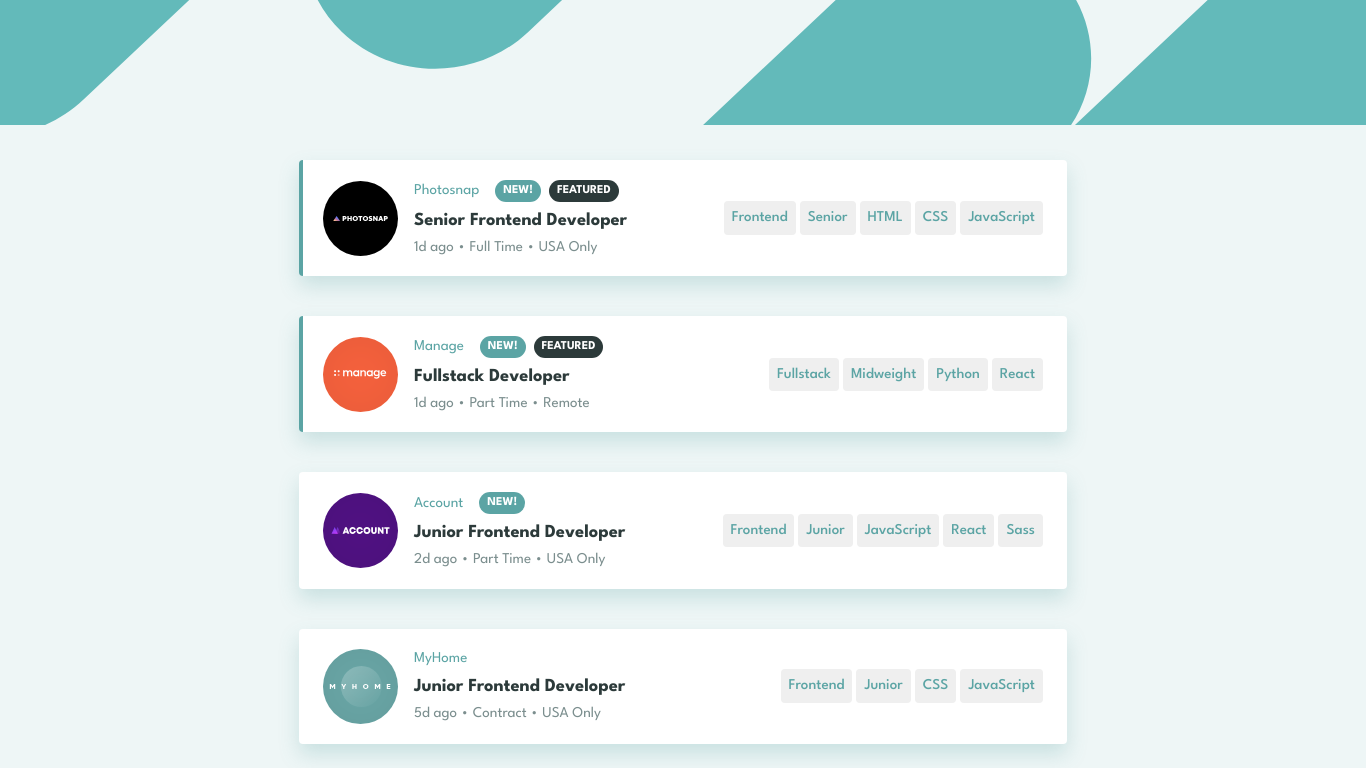
Test: <App /> › user adds filters for jobs
Click the button with test id "job-filter-tag" next to "Senior Frontend Developer".
click(760, 218)  # box [724,202,796,235]
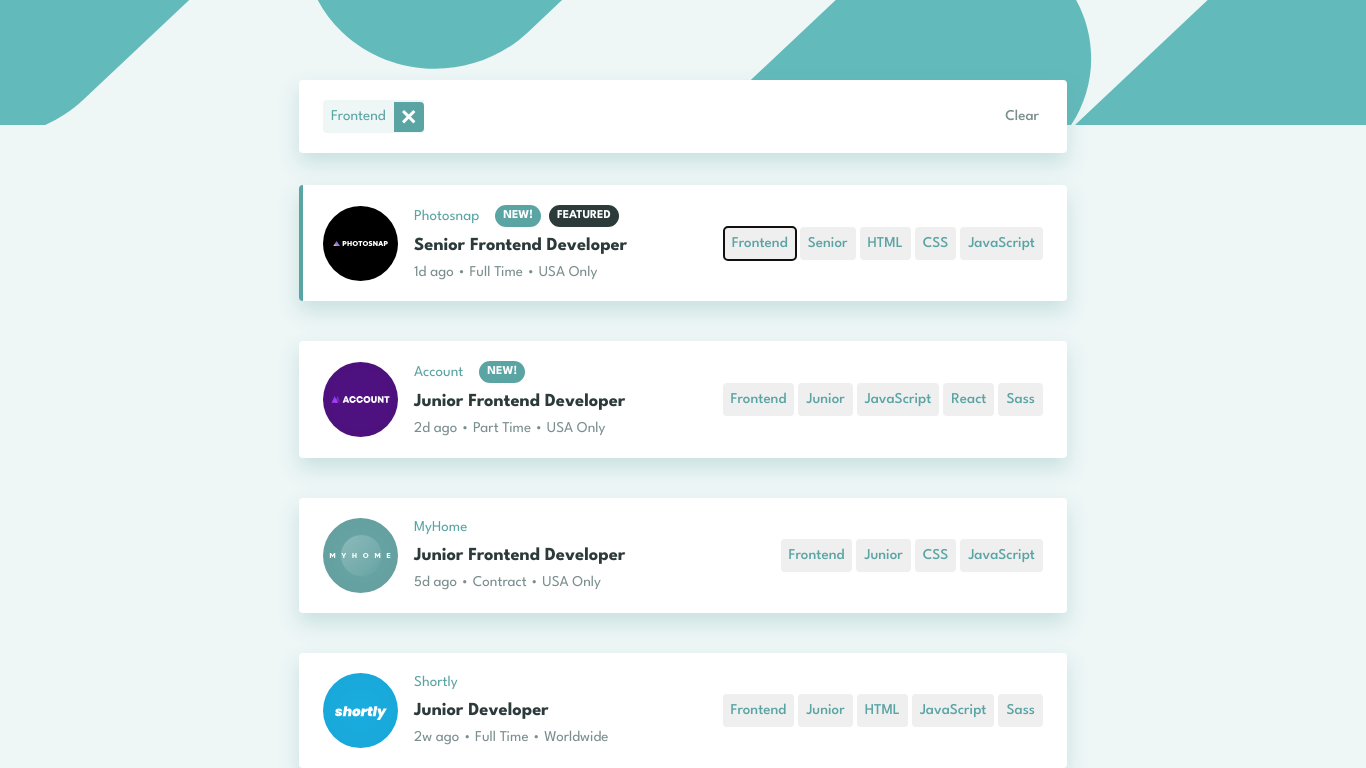
Expected: the element with test id "job-filter-bar" is shown, [299,80,1067,153]
